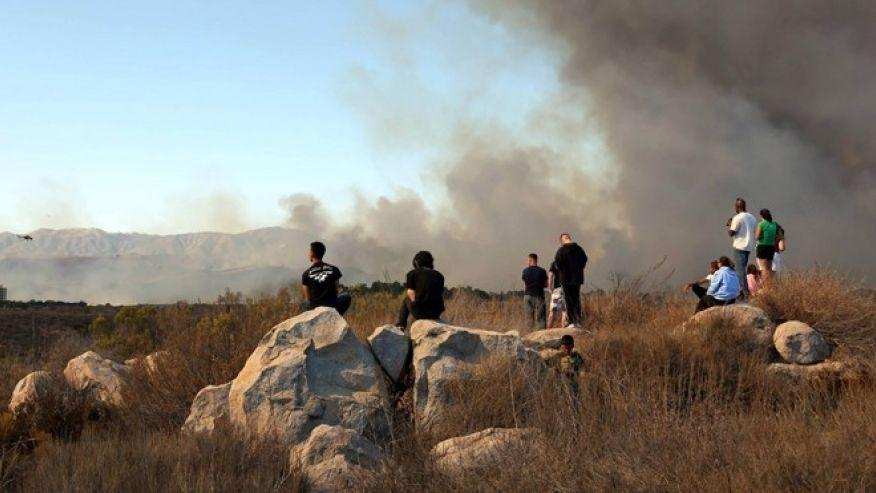smoke: (601, 6, 869, 208), (462, 175, 568, 256)
